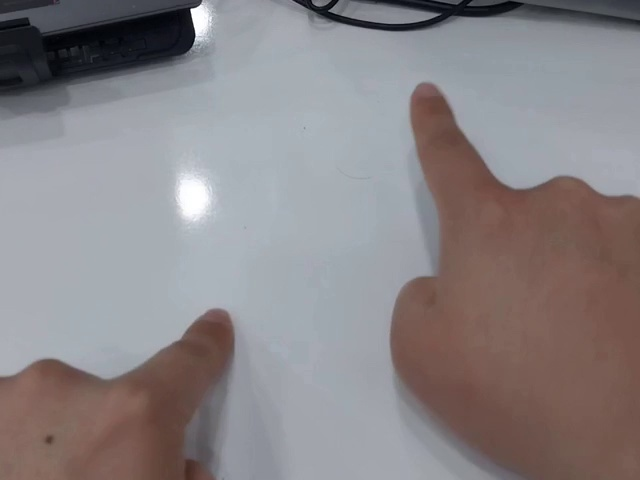fingers: (184, 307, 235, 359), (409, 81, 455, 125)
